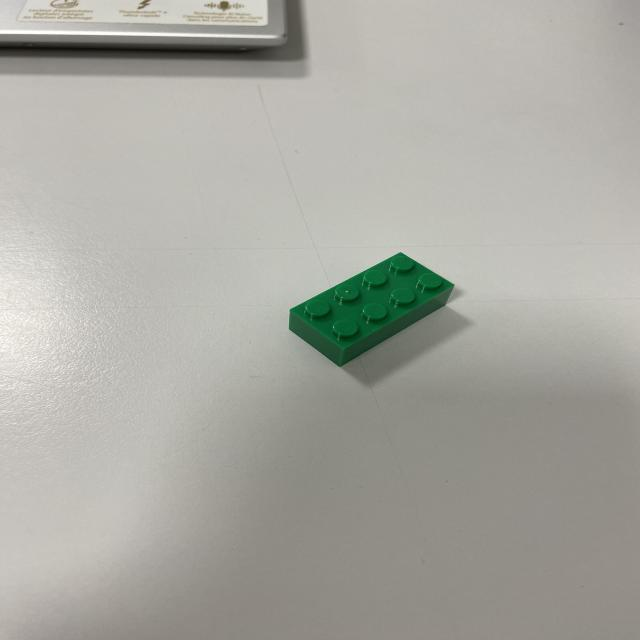C4x2x1: (290, 256, 455, 348), (341, 287, 455, 367)
